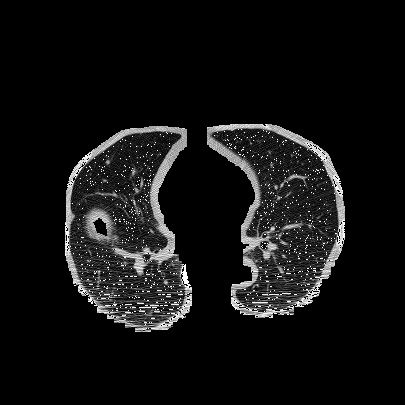PN: (105, 160, 109, 164)
